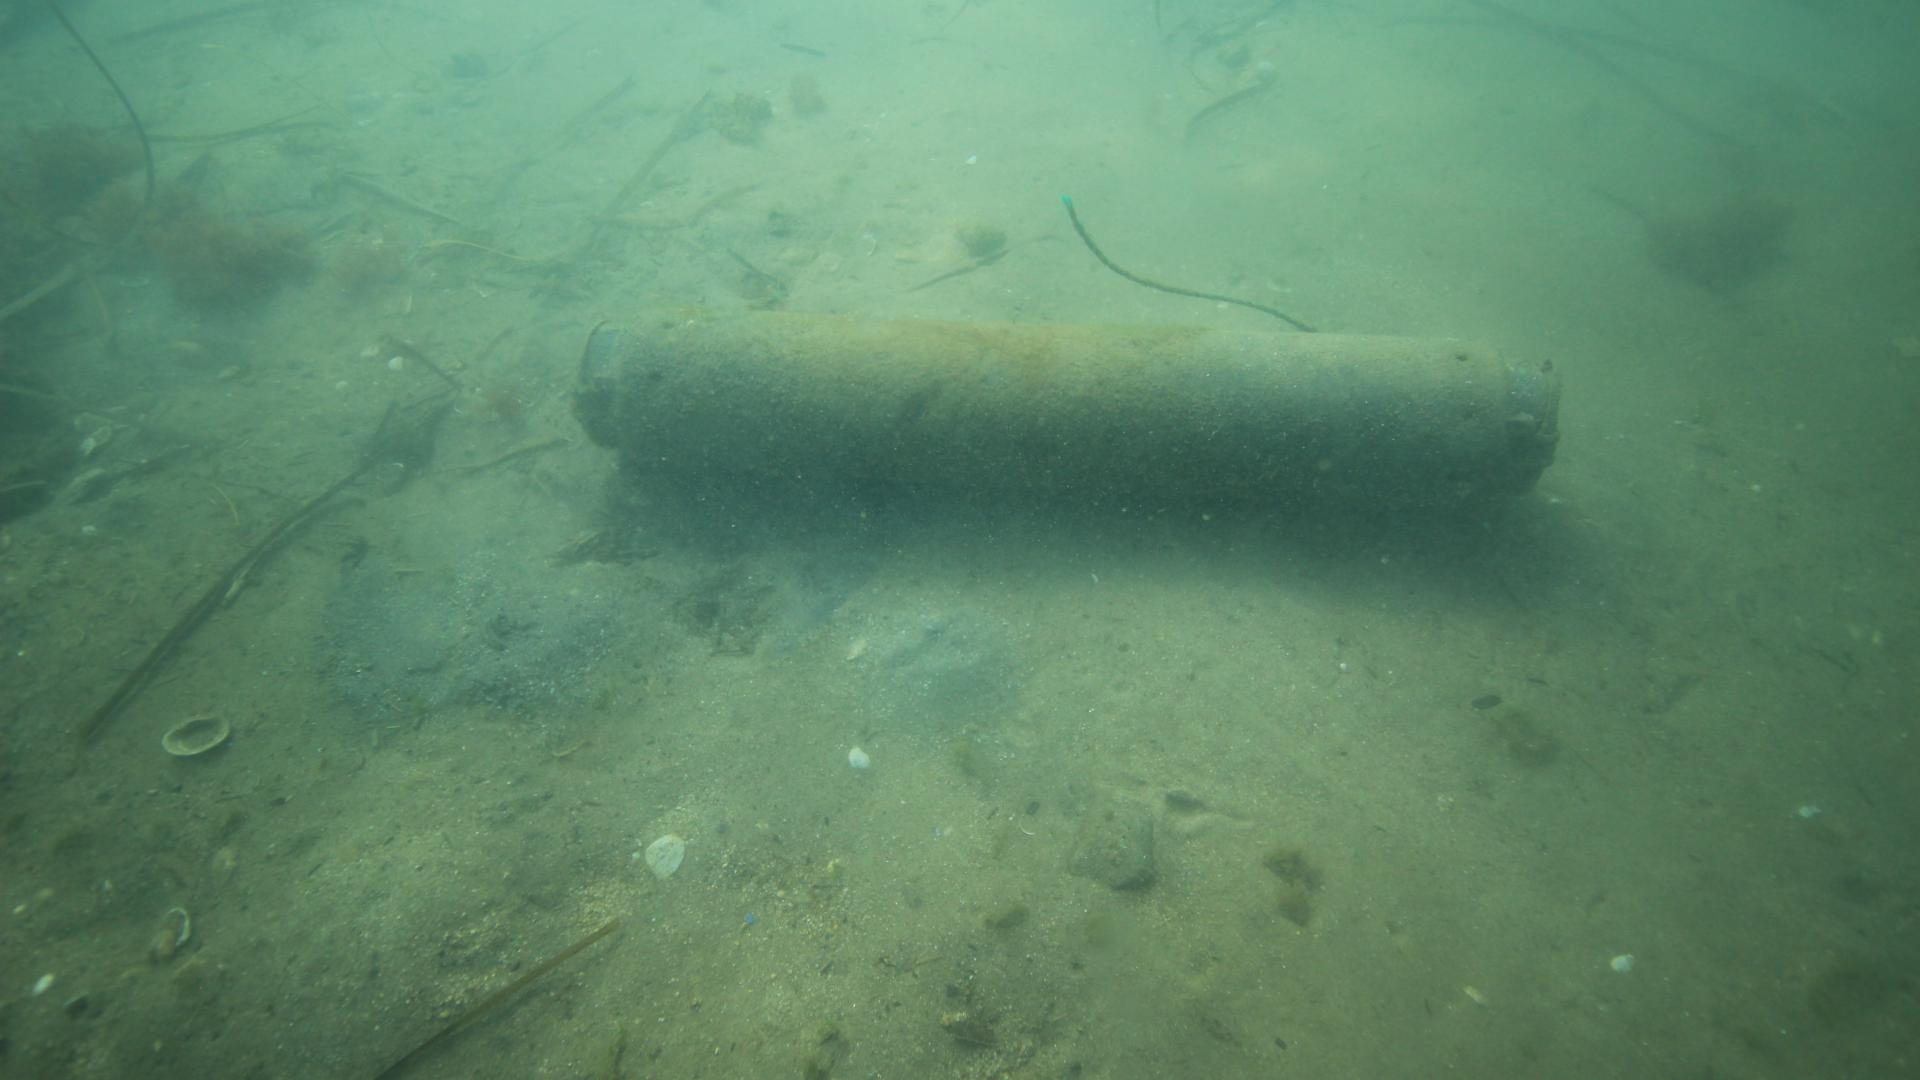eel fish trap: (570, 309, 1563, 520)
rope: (1055, 189, 1327, 338)
